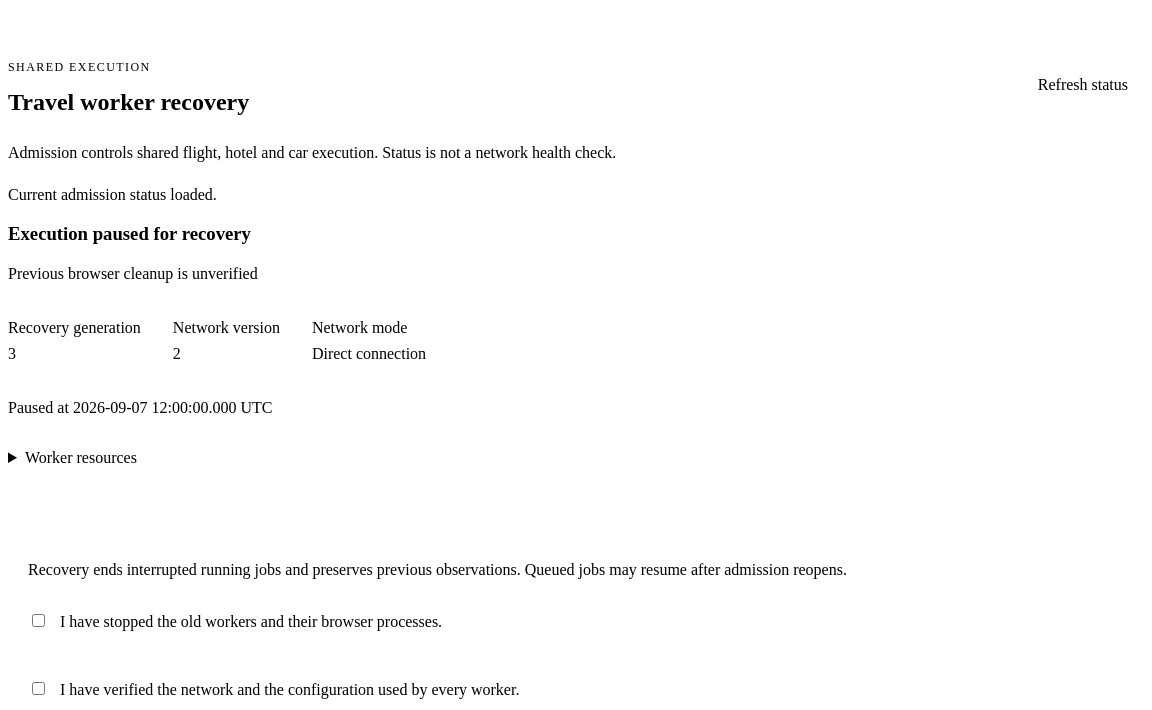
explicit administrator travel recovery › requires both operator checks in en and submits only the current generation
The image size is (1152, 710).
Expected: the heading "Execution paused for recovery" is shown, [8, 223, 251, 244]
Click the checkbox labelled "I have stopped the old workers and their browser processes." at x=38, y=621, box [32, 614, 45, 627]
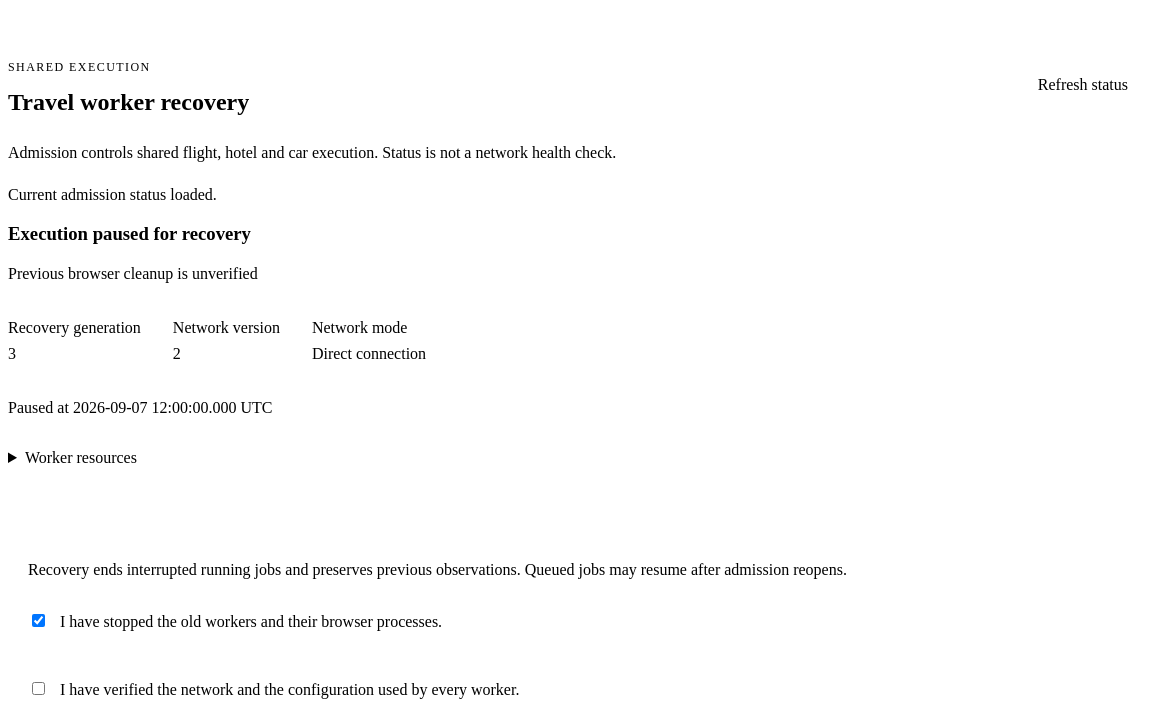
Click the checkbox labelled "I have verified the network and the configuration used by every worker." at x=38, y=689, box [32, 682, 45, 695]
(page scrolled)
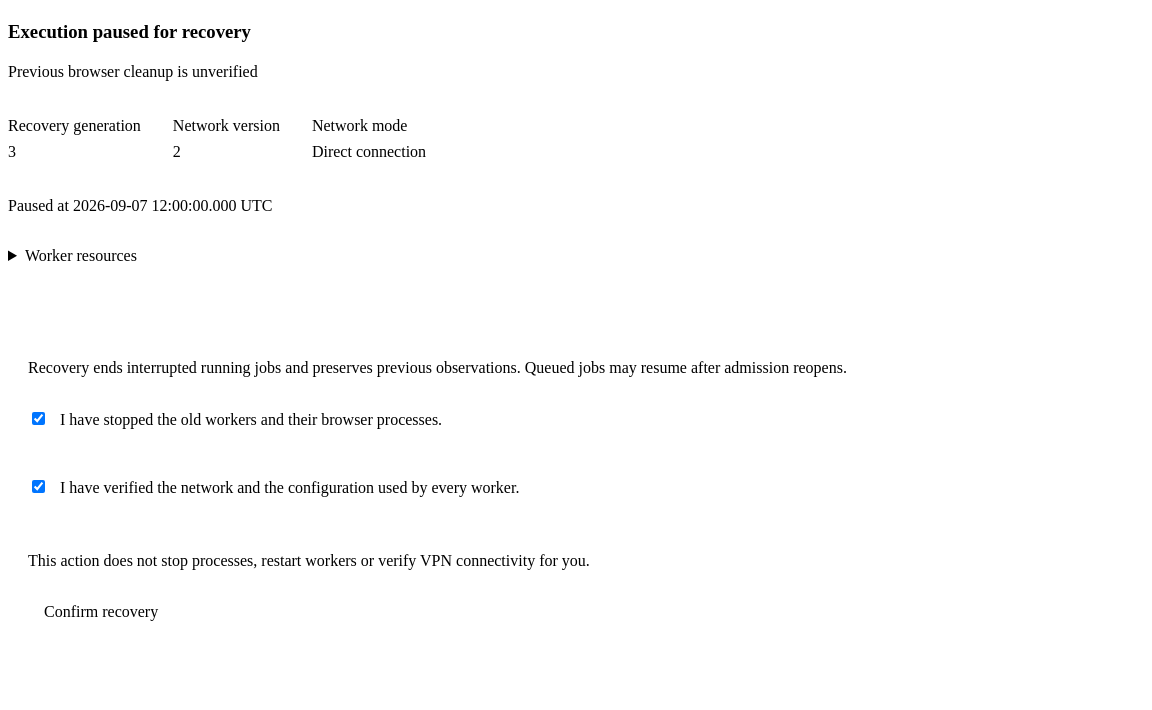
Click the button "Confirm recovery" at x=101, y=612, box [28, 590, 174, 634]
(page scrolled)
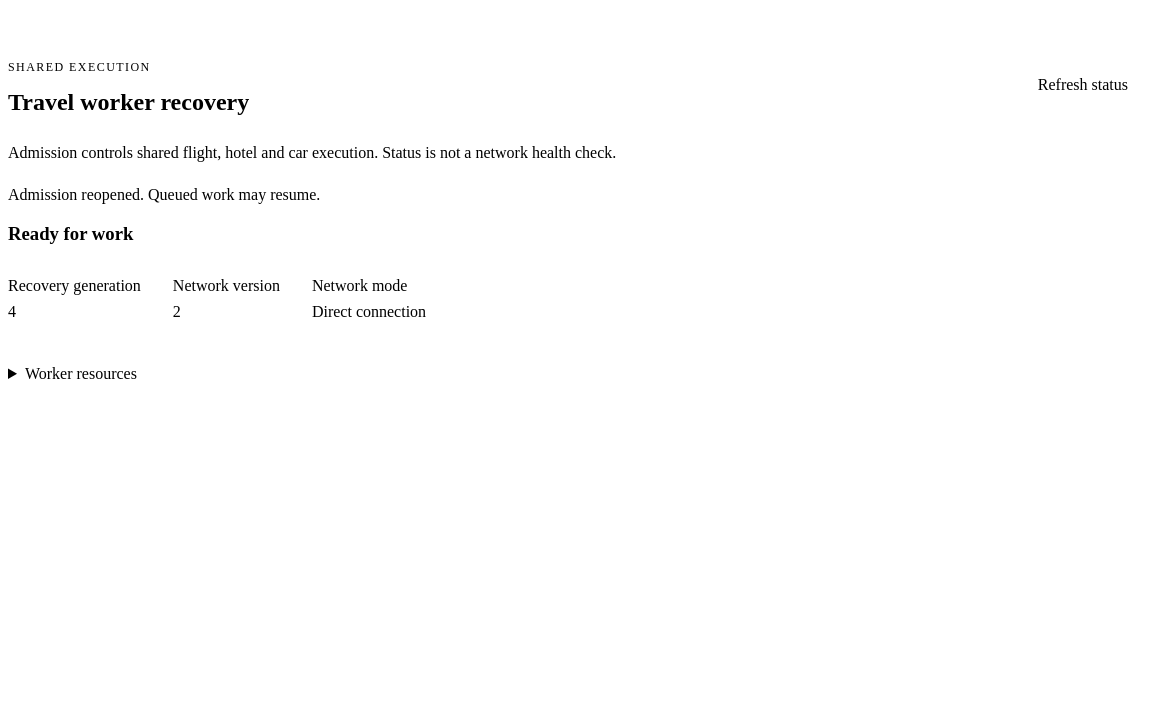
Expected: the text "Admission reopened. Queued work may resume." is shown, [8, 186, 320, 203]
Expected: the checkbox is gone
